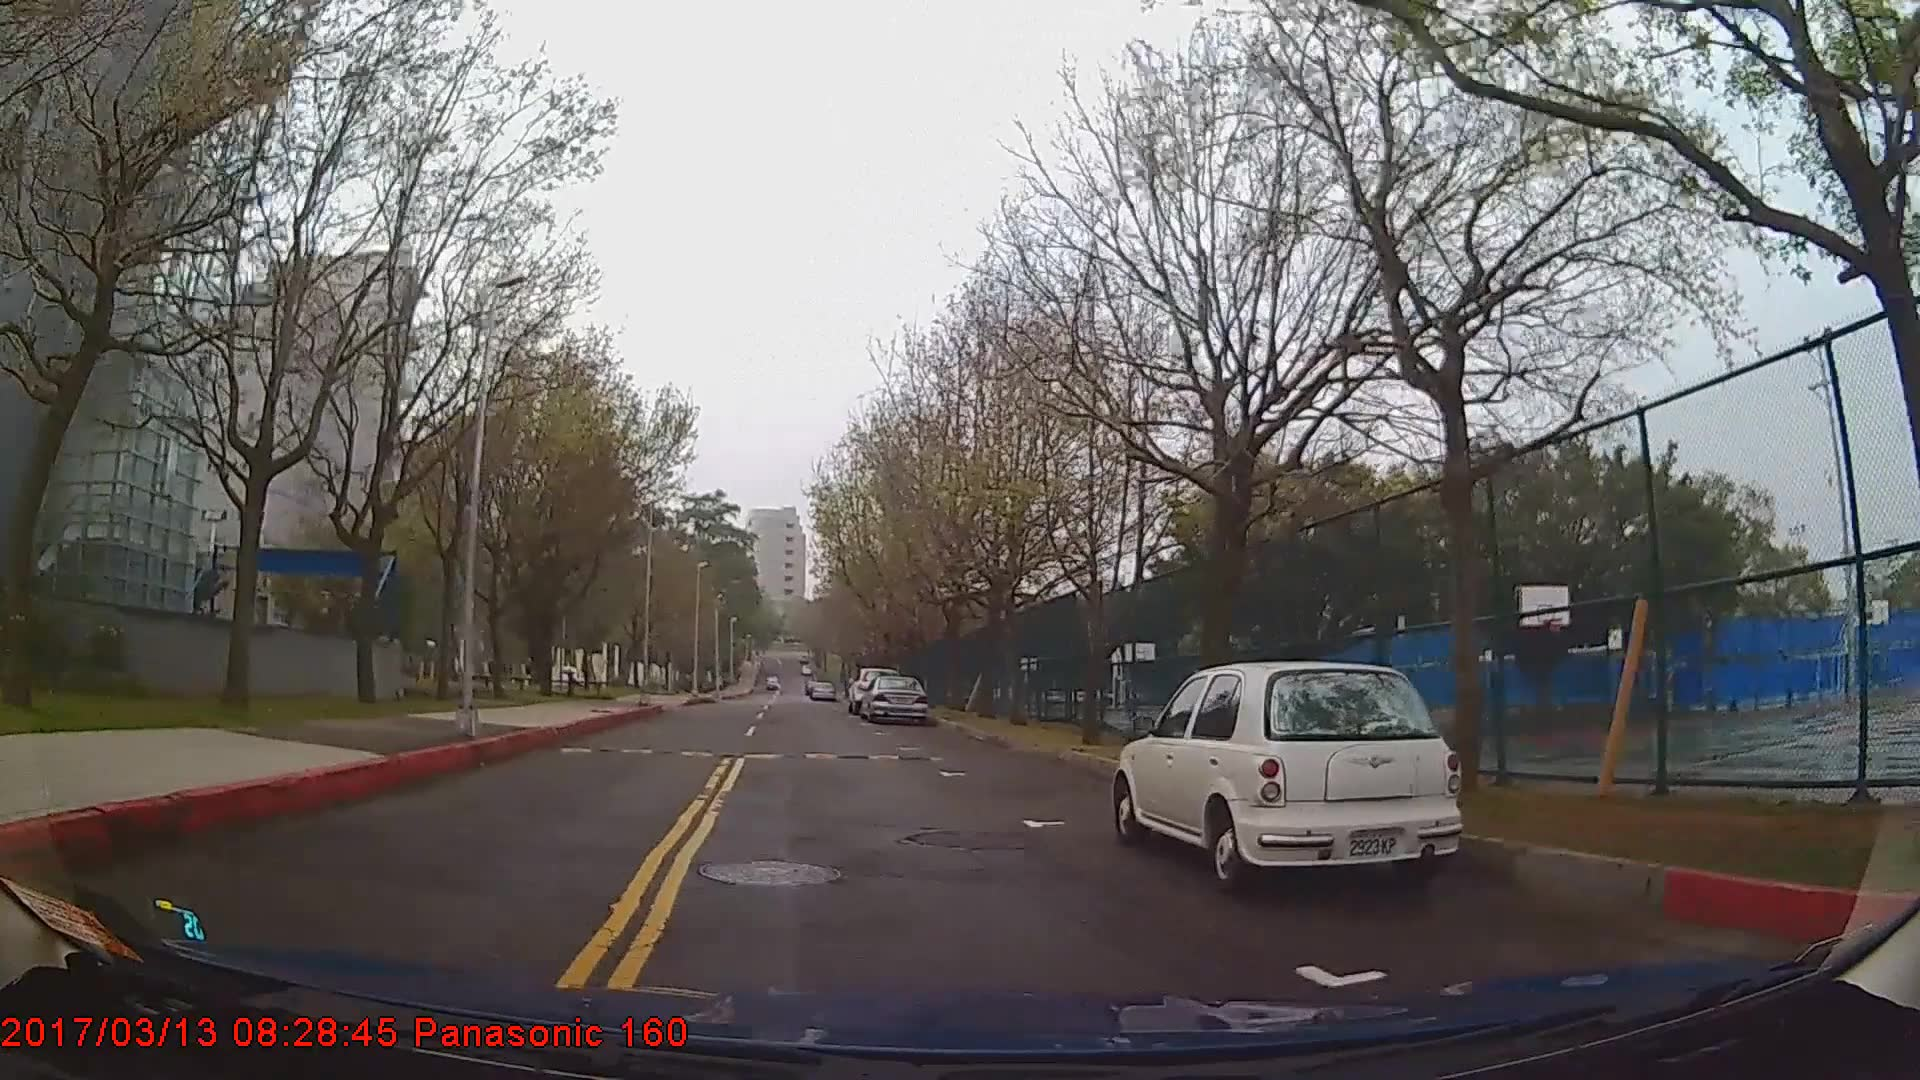vehicle: (1109, 658, 1466, 898), (858, 673, 928, 723)
